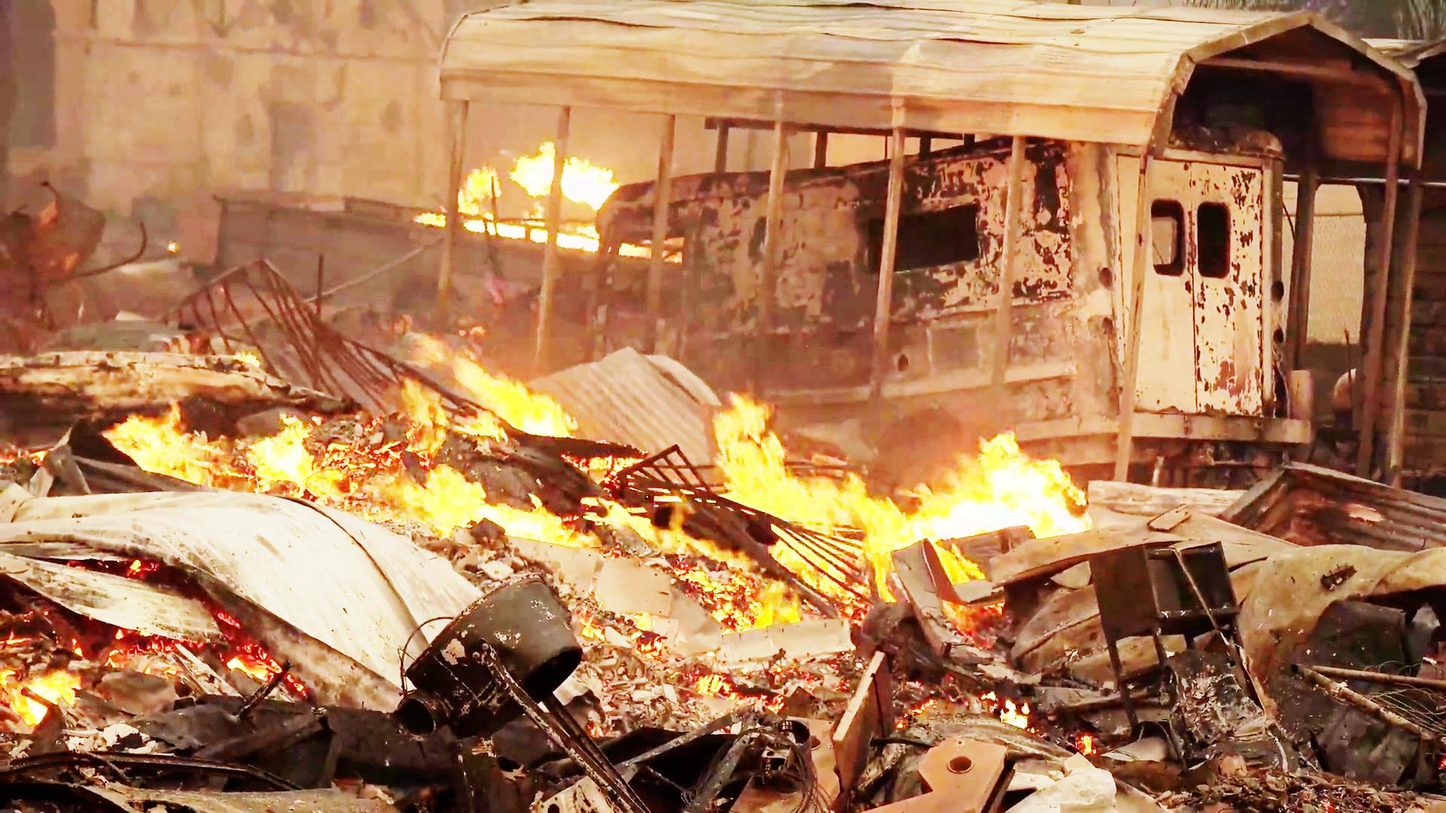fire: (684, 373, 918, 551), (855, 426, 1113, 586), (386, 326, 563, 446)
